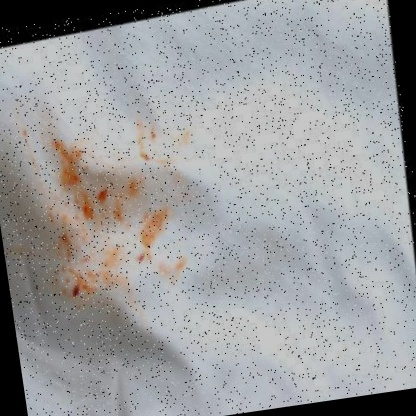kimchi: (0, 109, 224, 335), (51, 133, 97, 200), (73, 195, 98, 234), (58, 280, 87, 311), (93, 180, 115, 215), (141, 147, 156, 166), (134, 251, 149, 264)
